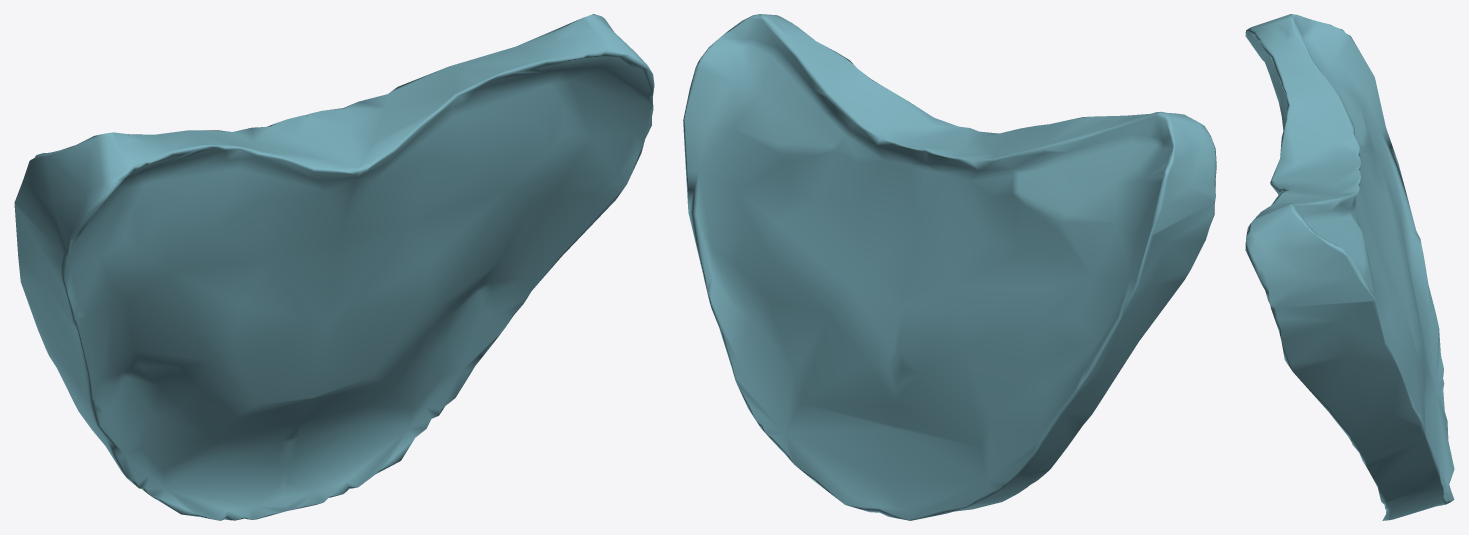
3 renders of one model, left to right at view 1: azimuth 30°, elevation 25°; view 2: azimuth 150°, elevation 25°; view 3: azimuth 270°, elevation 25°, orthographic. The views are drawn at different scales.
Parts seen in each view (by area): view 1: 胸3—胸4椎间盘; view 2: 胸3—胸4椎间盘; view 3: 胸3—胸4椎间盘.
Boxes of the visible parts, x1,y1,x2,y2 form: 胸3—胸4椎间盘: [14, 14, 654, 520]; 胸3—胸4椎间盘: [683, 14, 1216, 520]; 胸3—胸4椎间盘: [1245, 14, 1454, 520].
Bounding box in the file's own units: 0.049 × 0.0385 × 0.0187.
